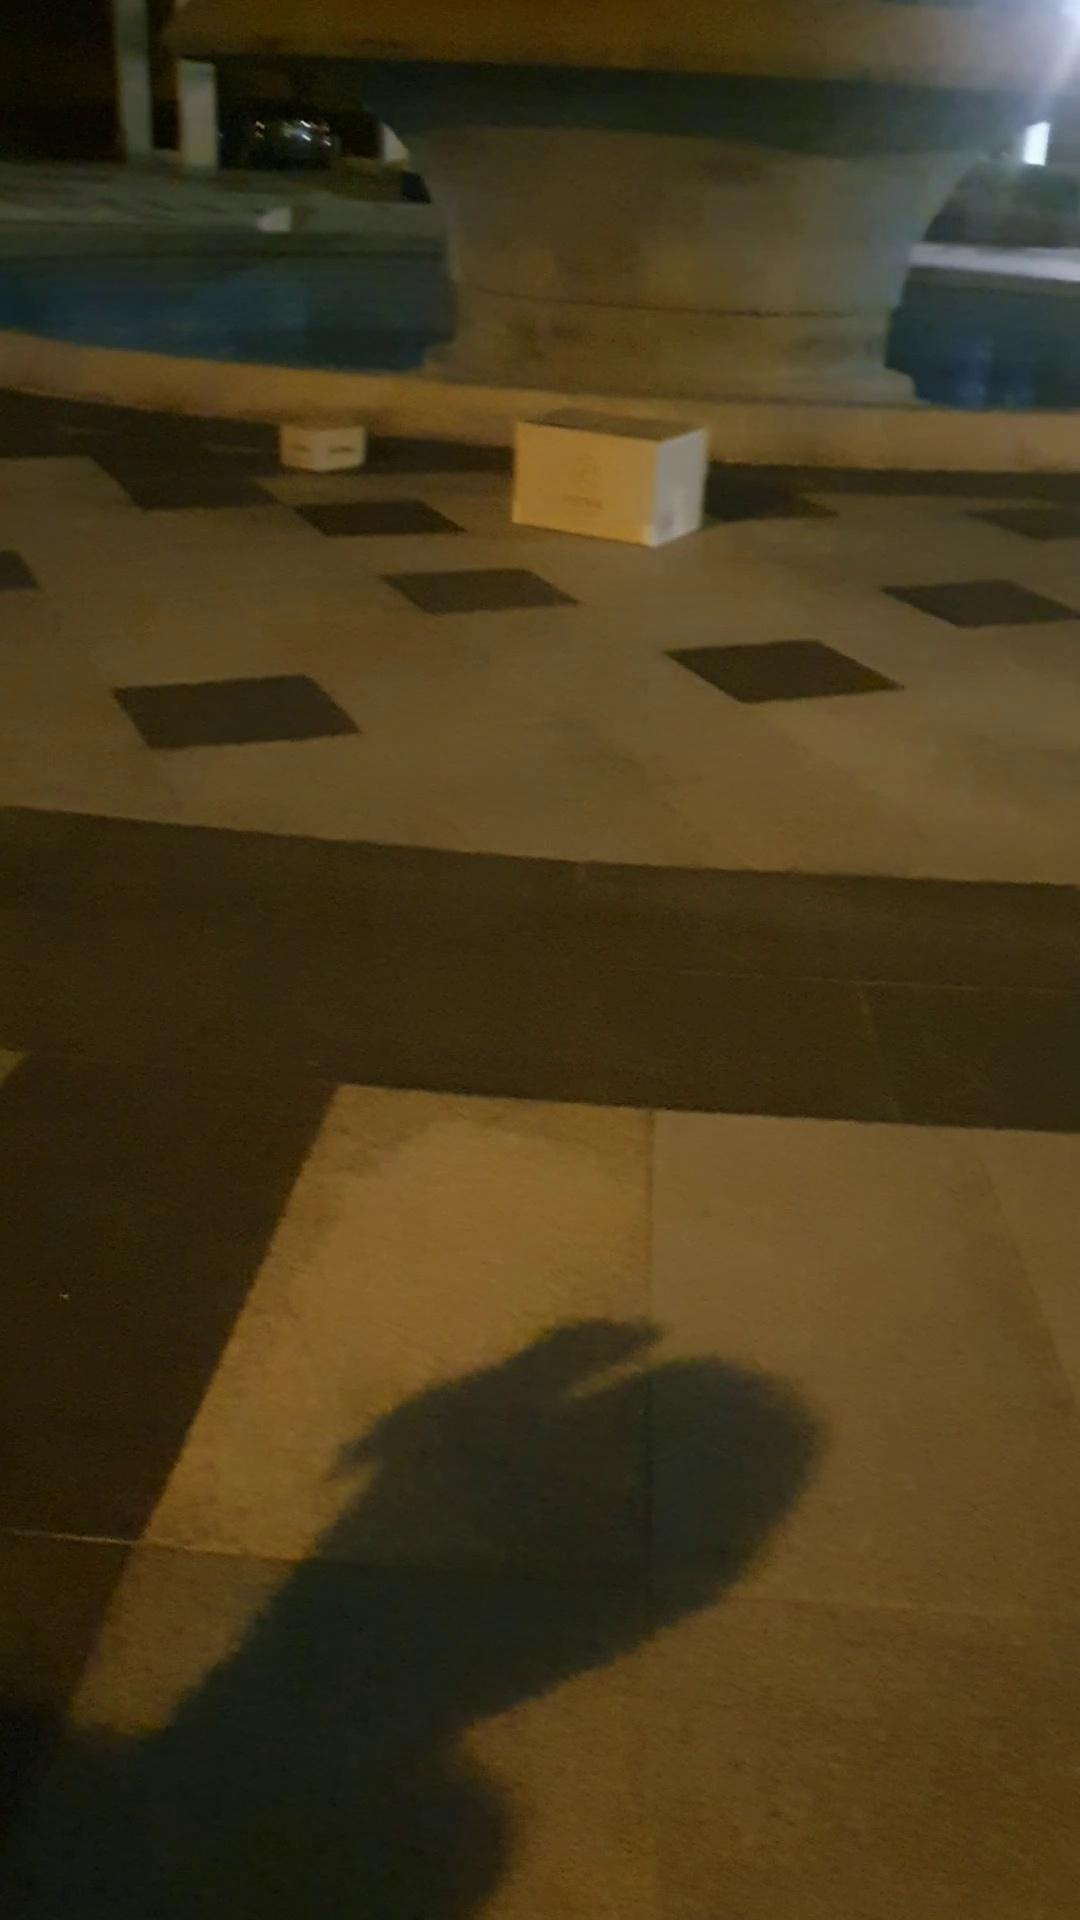Box: (506, 393, 715, 545), (272, 396, 368, 472)
